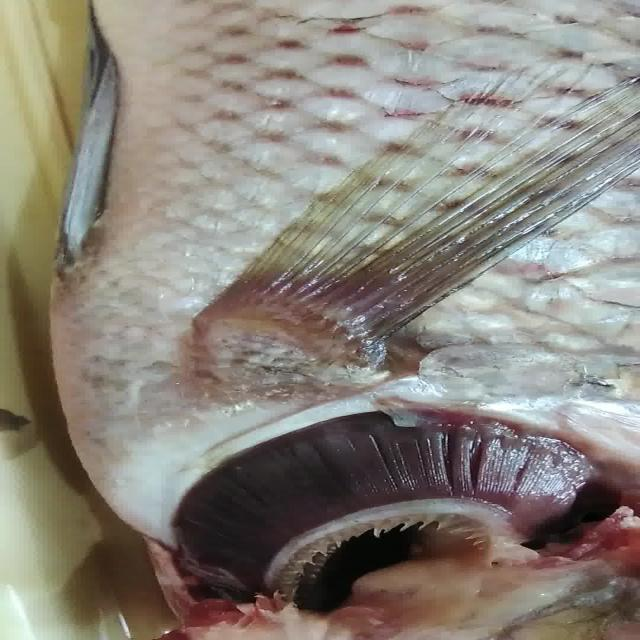Non-Fresh: (142, 383, 620, 590)
